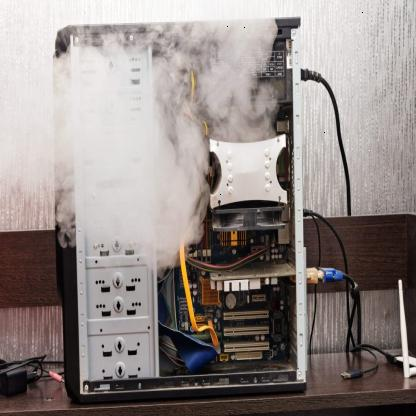smoke: (0, 0, 279, 275)
